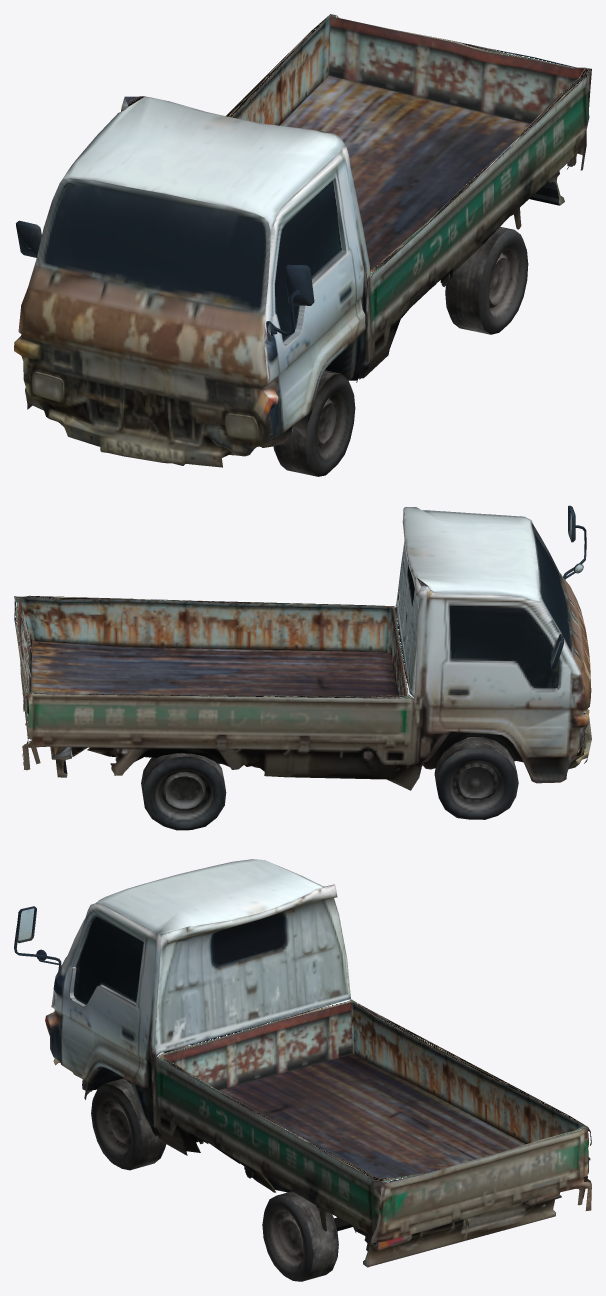
Rendered from rusty_truck.glb.
3 renders of one model, top to bottom at view 1: azimuth 30°, elevation 25°; view 2: azimuth 150°, elevation 25°; view 3: azimuth 270°, elevation 25°, orthographic. The views are drawn at different scales.
Parts seen in each view (by area): view 1: RTRUCK_BODY, RTRUCK_WHEEL_BACK_L, RTRUCK_WHEEL_FRONT_L; view 2: RTRUCK_BODY, RTRUCK_WHEEL_FRONT_R, RTRUCK_WHEEL_BACK_R; view 3: RTRUCK_BODY, RTRUCK_WHEEL_BACK_L, RTRUCK_WHEEL_FRONT_L.
Part boxes in pixels (box(x1,y1,x2,y2)): RTRUCK_BODY: box(14, 14, 591, 467); RTRUCK_WHEEL_BACK_L: box(445, 226, 528, 334); RTRUCK_WHEEL_FRONT_L: box(273, 370, 355, 476); RTRUCK_BODY: box(14, 505, 591, 790); RTRUCK_WHEEL_FRONT_R: box(434, 736, 518, 819); RTRUCK_WHEEL_BACK_R: box(141, 753, 226, 830); RTRUCK_BODY: box(14, 859, 591, 1267); RTRUCK_WHEEL_BACK_L: box(262, 1191, 338, 1281); RTRUCK_WHEEL_FRONT_L: box(91, 1078, 166, 1170).
Bounding box in the file's own units: 4.59 × 2.01 × 4.16.
1 material, 1 textured.
